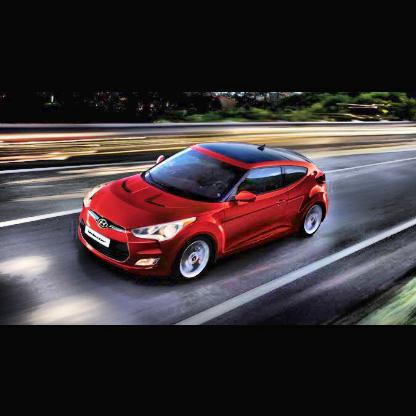Hyundai Veloster Hatchback 2012: (67, 135, 340, 287)
